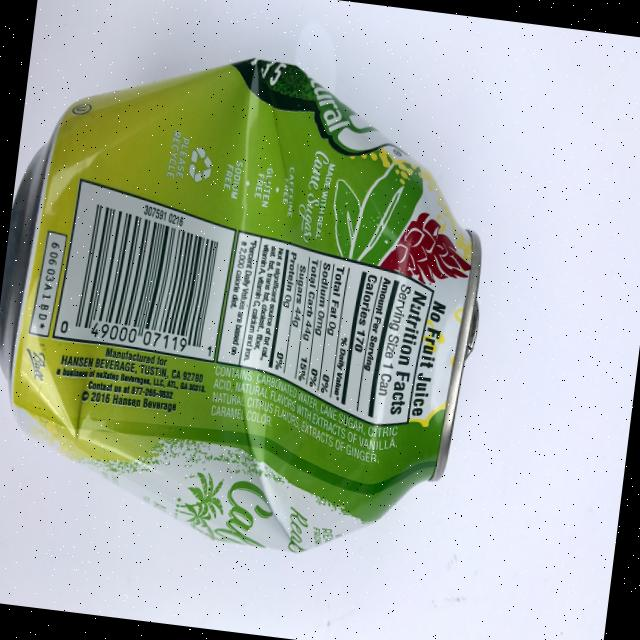metal: (0, 28, 508, 572)
